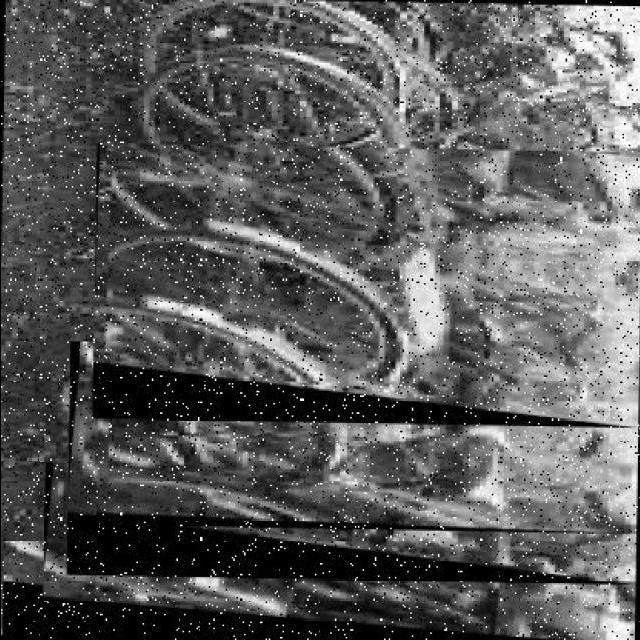bicycle: (90, 141, 640, 429), (95, 275, 640, 535), (66, 340, 640, 586), (39, 460, 639, 640), (3, 538, 575, 640)
